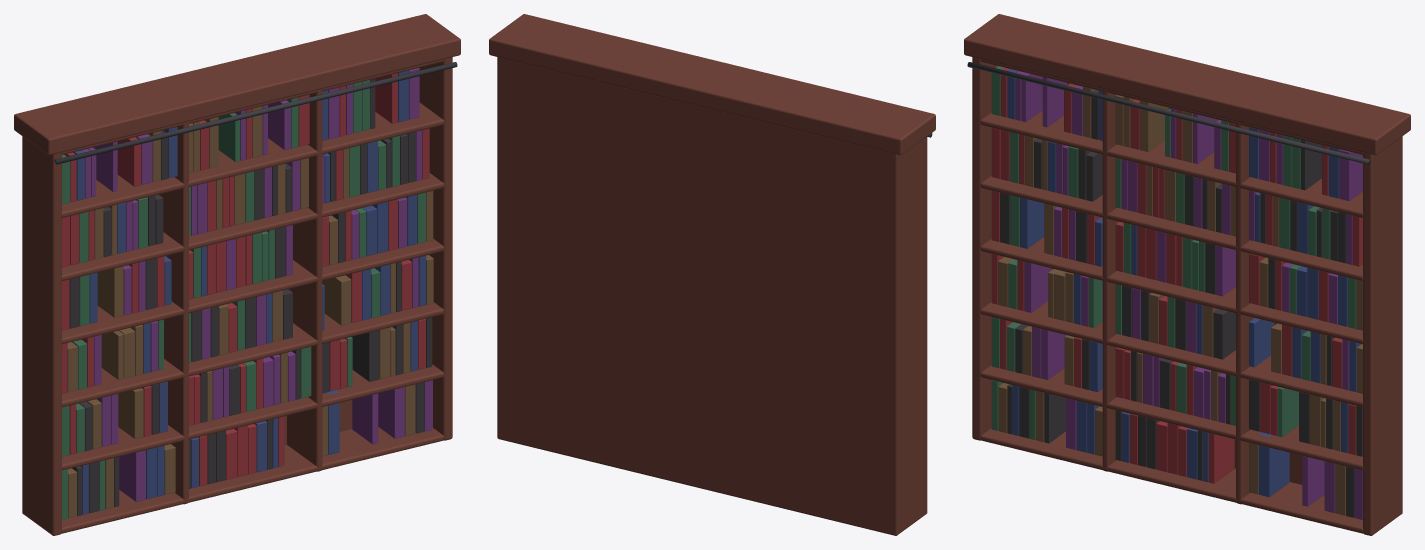
Rendered from wall_bookcase_oak.glb.
The picture shows the model from 3 angles, left to right: view 1: azimuth 30°, elevation 25°; view 2: azimuth 150°, elevation 25°; view 3: azimuth 330°, elevation 25°; orthographic projection.
Parts seen in each view (by area): view 1: GD_wall_bookcase_oak__m0, GD_wall_bookcase_oak__m5, GD_wall_bookcase_oak__m2, GD_wall_bookcase_oak__m4, GD_wall_bookcase_oak__m1, GD_wall_bookcase_oak__m6, GD_wall_bookcase_oak__m3, GD_wall_bookcase_oak__m7; view 2: GD_wall_bookcase_oak__m0; view 3: GD_wall_bookcase_oak__m0, GD_wall_bookcase_oak__m2, GD_wall_bookcase_oak__m5, GD_wall_bookcase_oak__m1, GD_wall_bookcase_oak__m4, GD_wall_bookcase_oak__m3, GD_wall_bookcase_oak__m6, GD_wall_bookcase_oak__m7.
Part boxes in pixels (x1=…): GD_wall_bookcase_oak__m0: x1=14, y1=14, x2=460, y2=535; GD_wall_bookcase_oak__m5: x1=62, y1=73, x2=429, y2=486; GD_wall_bookcase_oak__m2: x1=82, y1=68, x2=432, y2=501; GD_wall_bookcase_oak__m4: x1=67, y1=106, x2=433, y2=518; GD_wall_bookcase_oak__m1: x1=69, y1=78, x2=432, y2=516; GD_wall_bookcase_oak__m6: x1=62, y1=80, x2=425, y2=519; GD_wall_bookcase_oak__m3: x1=73, y1=70, x2=426, y2=514; GD_wall_bookcase_oak__m7: x1=54, y1=62, x2=457, y2=164; GD_wall_bookcase_oak__m0: x1=489, y1=14, x2=935, y2=535; GD_wall_bookcase_oak__m0: x1=964, y1=14, x2=1410, y2=535; GD_wall_bookcase_oak__m2: x1=1015, y1=71, x2=1362, y2=519; GD_wall_bookcase_oak__m5: x1=991, y1=67, x2=1362, y2=483; GD_wall_bookcase_oak__m1: x1=1000, y1=90, x2=1362, y2=517; GD_wall_bookcase_oak__m4: x1=998, y1=86, x2=1362, y2=515; GD_wall_bookcase_oak__m3: x1=1007, y1=69, x2=1361, y2=497; GD_wall_bookcase_oak__m6: x1=991, y1=66, x2=1356, y2=439; GD_wall_bookcase_oak__m7: x1=967, y1=62, x2=1370, y2=164.
Bounding box in the file's own units: 2.58 × 2.39 × 0.405.
